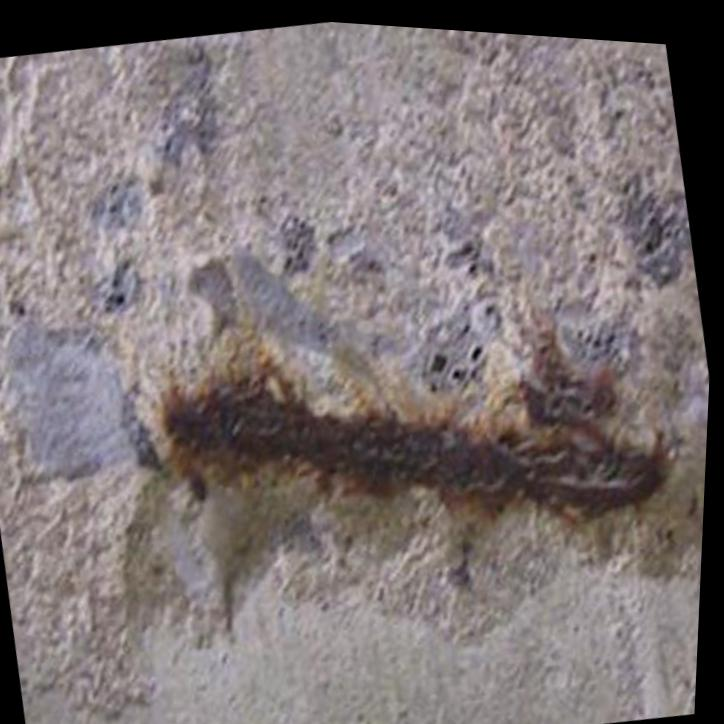damage: (0, 17, 712, 720)
